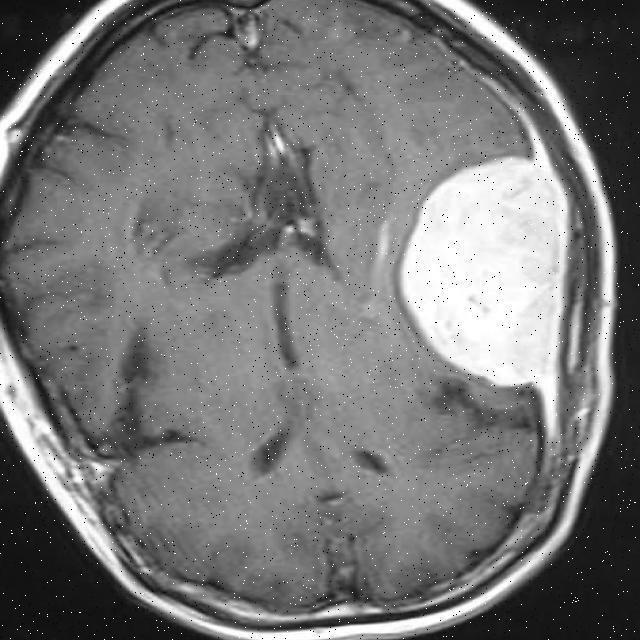Meningioma: (402, 158, 560, 385)
